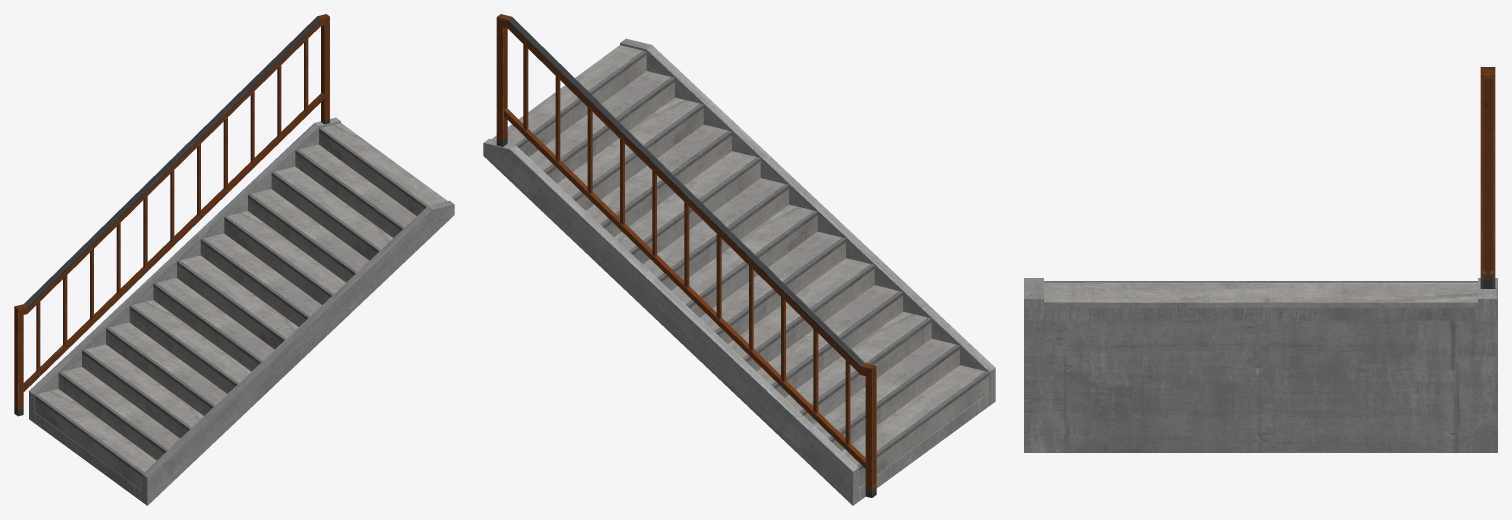
File: HH_Hospital_Ladder.fbx
3 views of the same model, side by side, from view 1: azimuth 30°, elevation 25°; view 2: azimuth 150°, elevation 25°; view 3: azimuth 270°, elevation 25° (orthographic). The views are drawn at different scales.
Visible parts, largest first — view 1: HH_Hospital_Ladder; view 2: HH_Hospital_Ladder; view 3: HH_Hospital_Ladder.
Part boxes in pixels (x1,y1,x2,y2): HH_Hospital_Ladder: [14, 14, 454, 505]; HH_Hospital_Ladder: [483, 14, 995, 505]; HH_Hospital_Ladder: [1024, 67, 1497, 452].
Size of what is drawn, in the model's own units: 315 by 311 by 200.
